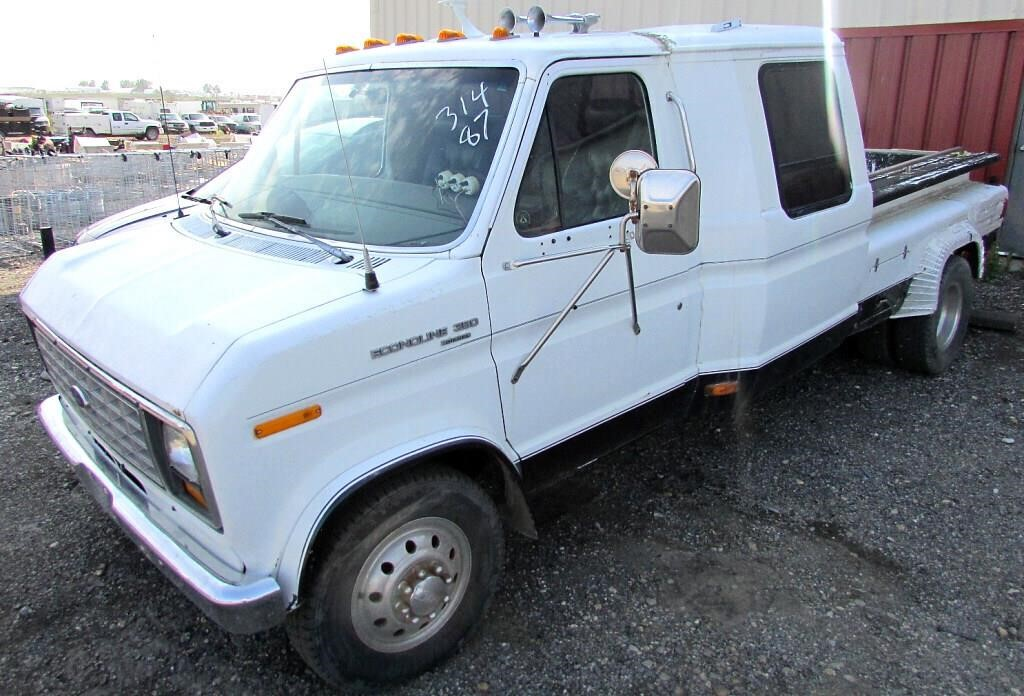car: (22, 7, 1011, 696), (46, 99, 164, 165)
